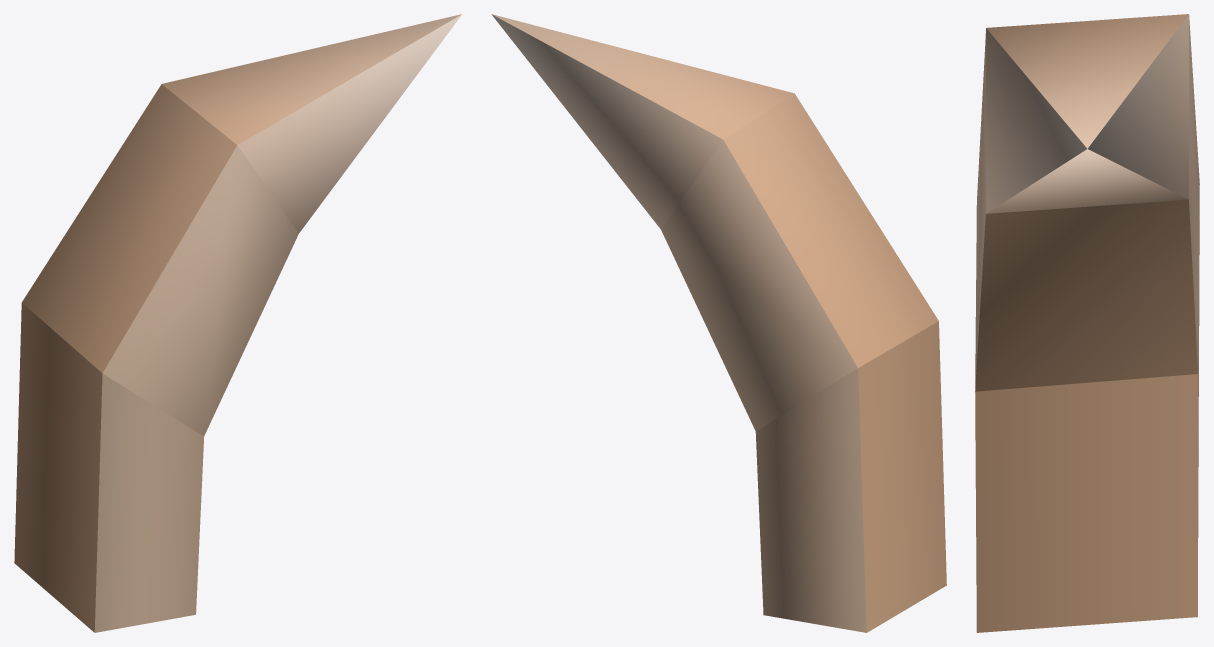
Rendered from decor_002.fbx.
3 views of the same model, side by side, from view 1: azimuth 30°, elevation 25°; view 2: azimuth 150°, elevation 25°; view 3: azimuth 270°, elevation 25° (orthographic). The views are drawn at different scales.
Parts seen in each view (by area): view 1: decor_002; view 2: decor_002; view 3: decor_002.
Part boxes in pixels (<box>): decor_002: <box>14,14,462,632</box>; decor_002: <box>491,14,946,632</box>; decor_002: <box>975,14,1199,632</box>.
Bounding box in the file's own units: 53.84 × 62.6 × 18.42.
